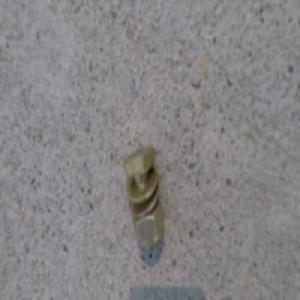BoltNutSet: (123, 141, 163, 242)
